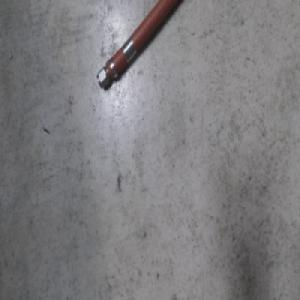Hose: (96, 0, 185, 92)
